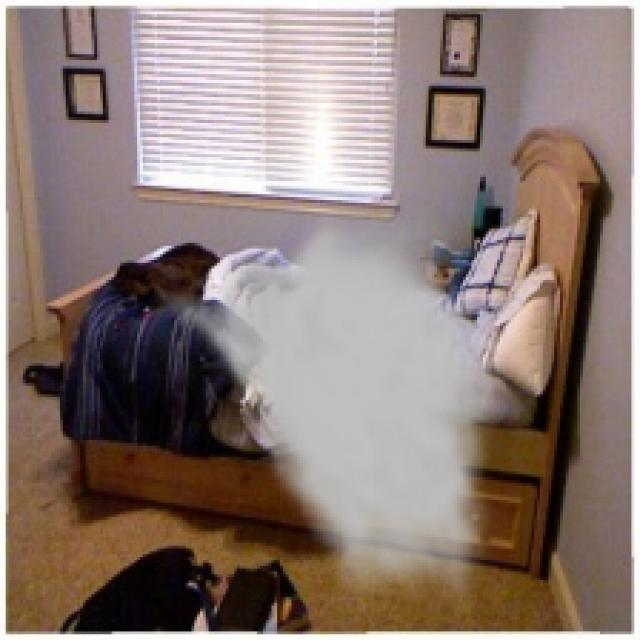smoke: (148, 206, 506, 617)
